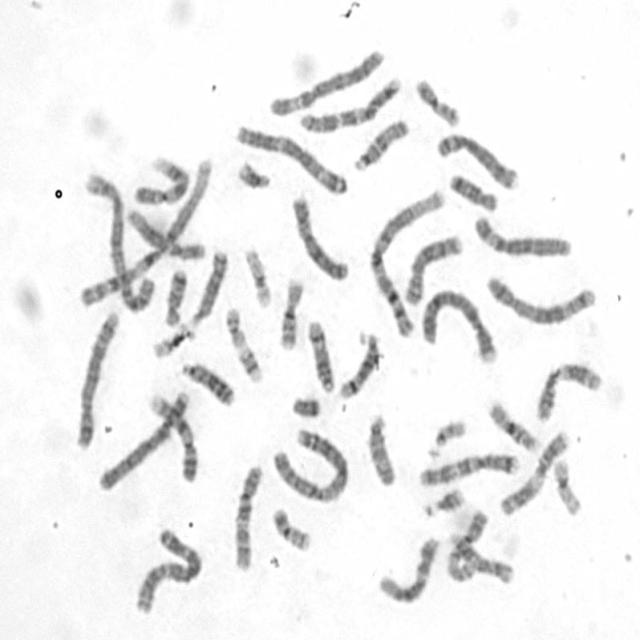A1: (78, 157, 215, 306), (369, 188, 446, 338)
A2: (85, 171, 156, 312), (272, 427, 351, 505)
A3: (232, 125, 349, 197), (133, 527, 202, 615)
B4: (96, 389, 191, 493), (420, 286, 497, 366)
B5: (74, 312, 120, 454), (483, 272, 600, 326)
C10: (231, 463, 264, 573), (444, 509, 492, 584)
C11: (498, 432, 572, 515), (534, 362, 605, 420)
C12: (378, 535, 441, 604), (124, 207, 206, 260)
C6: (266, 44, 385, 121), (472, 213, 574, 261)
C7: (298, 76, 403, 136), (414, 453, 520, 489)
C8: (433, 132, 521, 194), (399, 234, 462, 307)
C9: (147, 390, 200, 482), (132, 156, 191, 208)
D13: (190, 247, 229, 326), (180, 362, 235, 406)
D14: (339, 333, 384, 398), (306, 320, 334, 393)
D15: (352, 116, 410, 173), (366, 415, 397, 489)
E16: (487, 402, 541, 452), (278, 279, 306, 352)
E17: (448, 531, 516, 587), (226, 305, 266, 384)
E18: (448, 173, 500, 213), (163, 268, 188, 326)
F19: (552, 458, 584, 519), (242, 248, 273, 306)
F20: (415, 78, 462, 128), (269, 505, 313, 555)
G21: (420, 483, 468, 521), (235, 160, 272, 192)
G22: (426, 422, 468, 460), (151, 329, 191, 362)
X: (289, 194, 352, 282)
Y: (290, 396, 322, 418)
